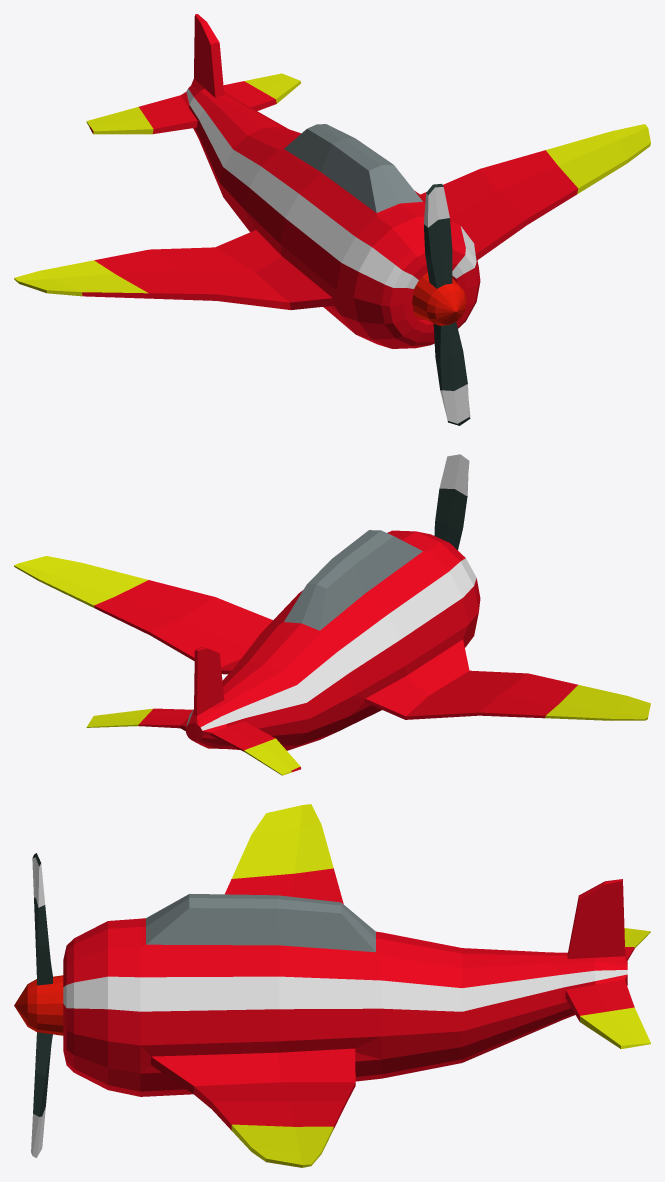
The model's file is aviao1.fbx.
The picture shows the model from 3 angles, top to bottom: view 1: azimuth 30°, elevation 25°; view 2: azimuth 150°, elevation 25°; view 3: azimuth 270°, elevation 25°; orthographic projection. The views are drawn at different scales.
Parts seen in each view (by area): view 1: Aviao, Helice; view 2: Aviao, Helice; view 3: Aviao, Helice.
Part boxes in pixels (<box>): Aviao: <box>14,14,650,348</box>; Helice: <box>412,183,470,425</box>; Aviao: <box>14,530,650,775</box>; Helice: <box>434,454,469,550</box>; Aviao: <box>63,804,650,1167</box>; Helice: <box>14,853,63,1157</box>.
Size of the model in its own units: 1008 by 379 by 753.
